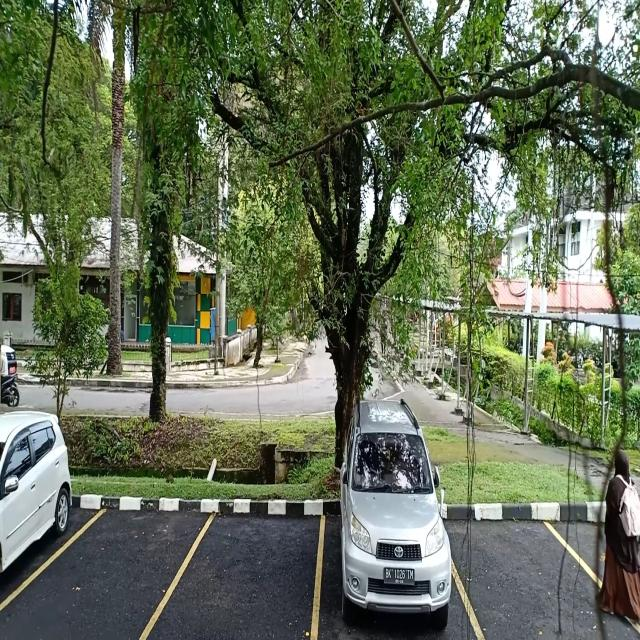empty: (168, 491, 321, 640), (47, 489, 186, 640), (461, 500, 582, 640)
occupied: (316, 485, 460, 640), (0, 473, 75, 602)
